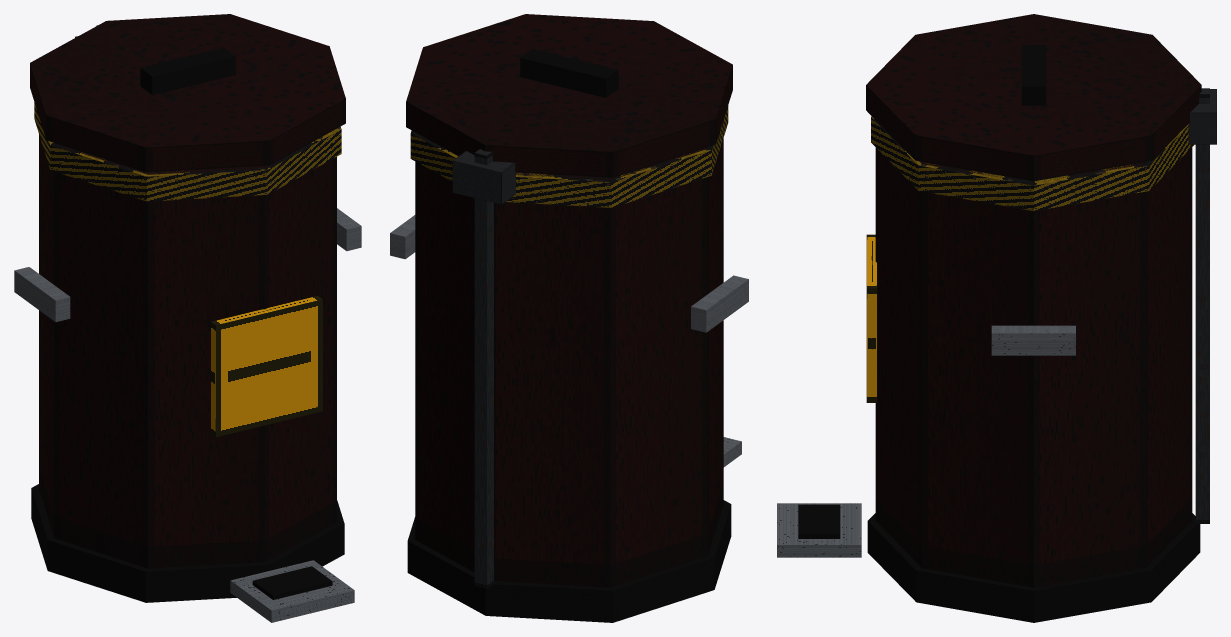
The model's file is biohazard_bin.glb.
3 renders of one model, left to right at view 1: azimuth 30°, elevation 25°; view 2: azimuth 150°, elevation 25°; view 3: azimuth 270°, elevation 25°, orthographic. The views are drawn at different scales.
Visible parts, largest first — view 1: biohazard_bin; view 2: biohazard_bin; view 3: biohazard_bin.
Part boxes in pixels (box(x1,y1,x2,y2)): biohazard_bin: box(14, 14, 361, 622); biohazard_bin: box(390, 14, 748, 622); biohazard_bin: box(777, 14, 1216, 622).
Size of the model in its own units: 0.515 by 0.7636 by 0.625.
Materials: 1 (1 with a texture image).
